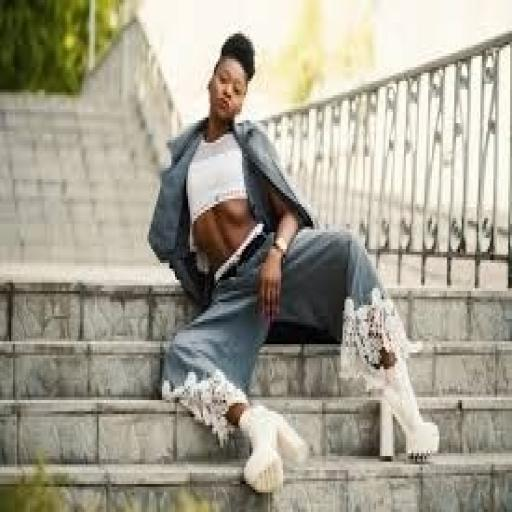sitting: (147, 28, 443, 495)
